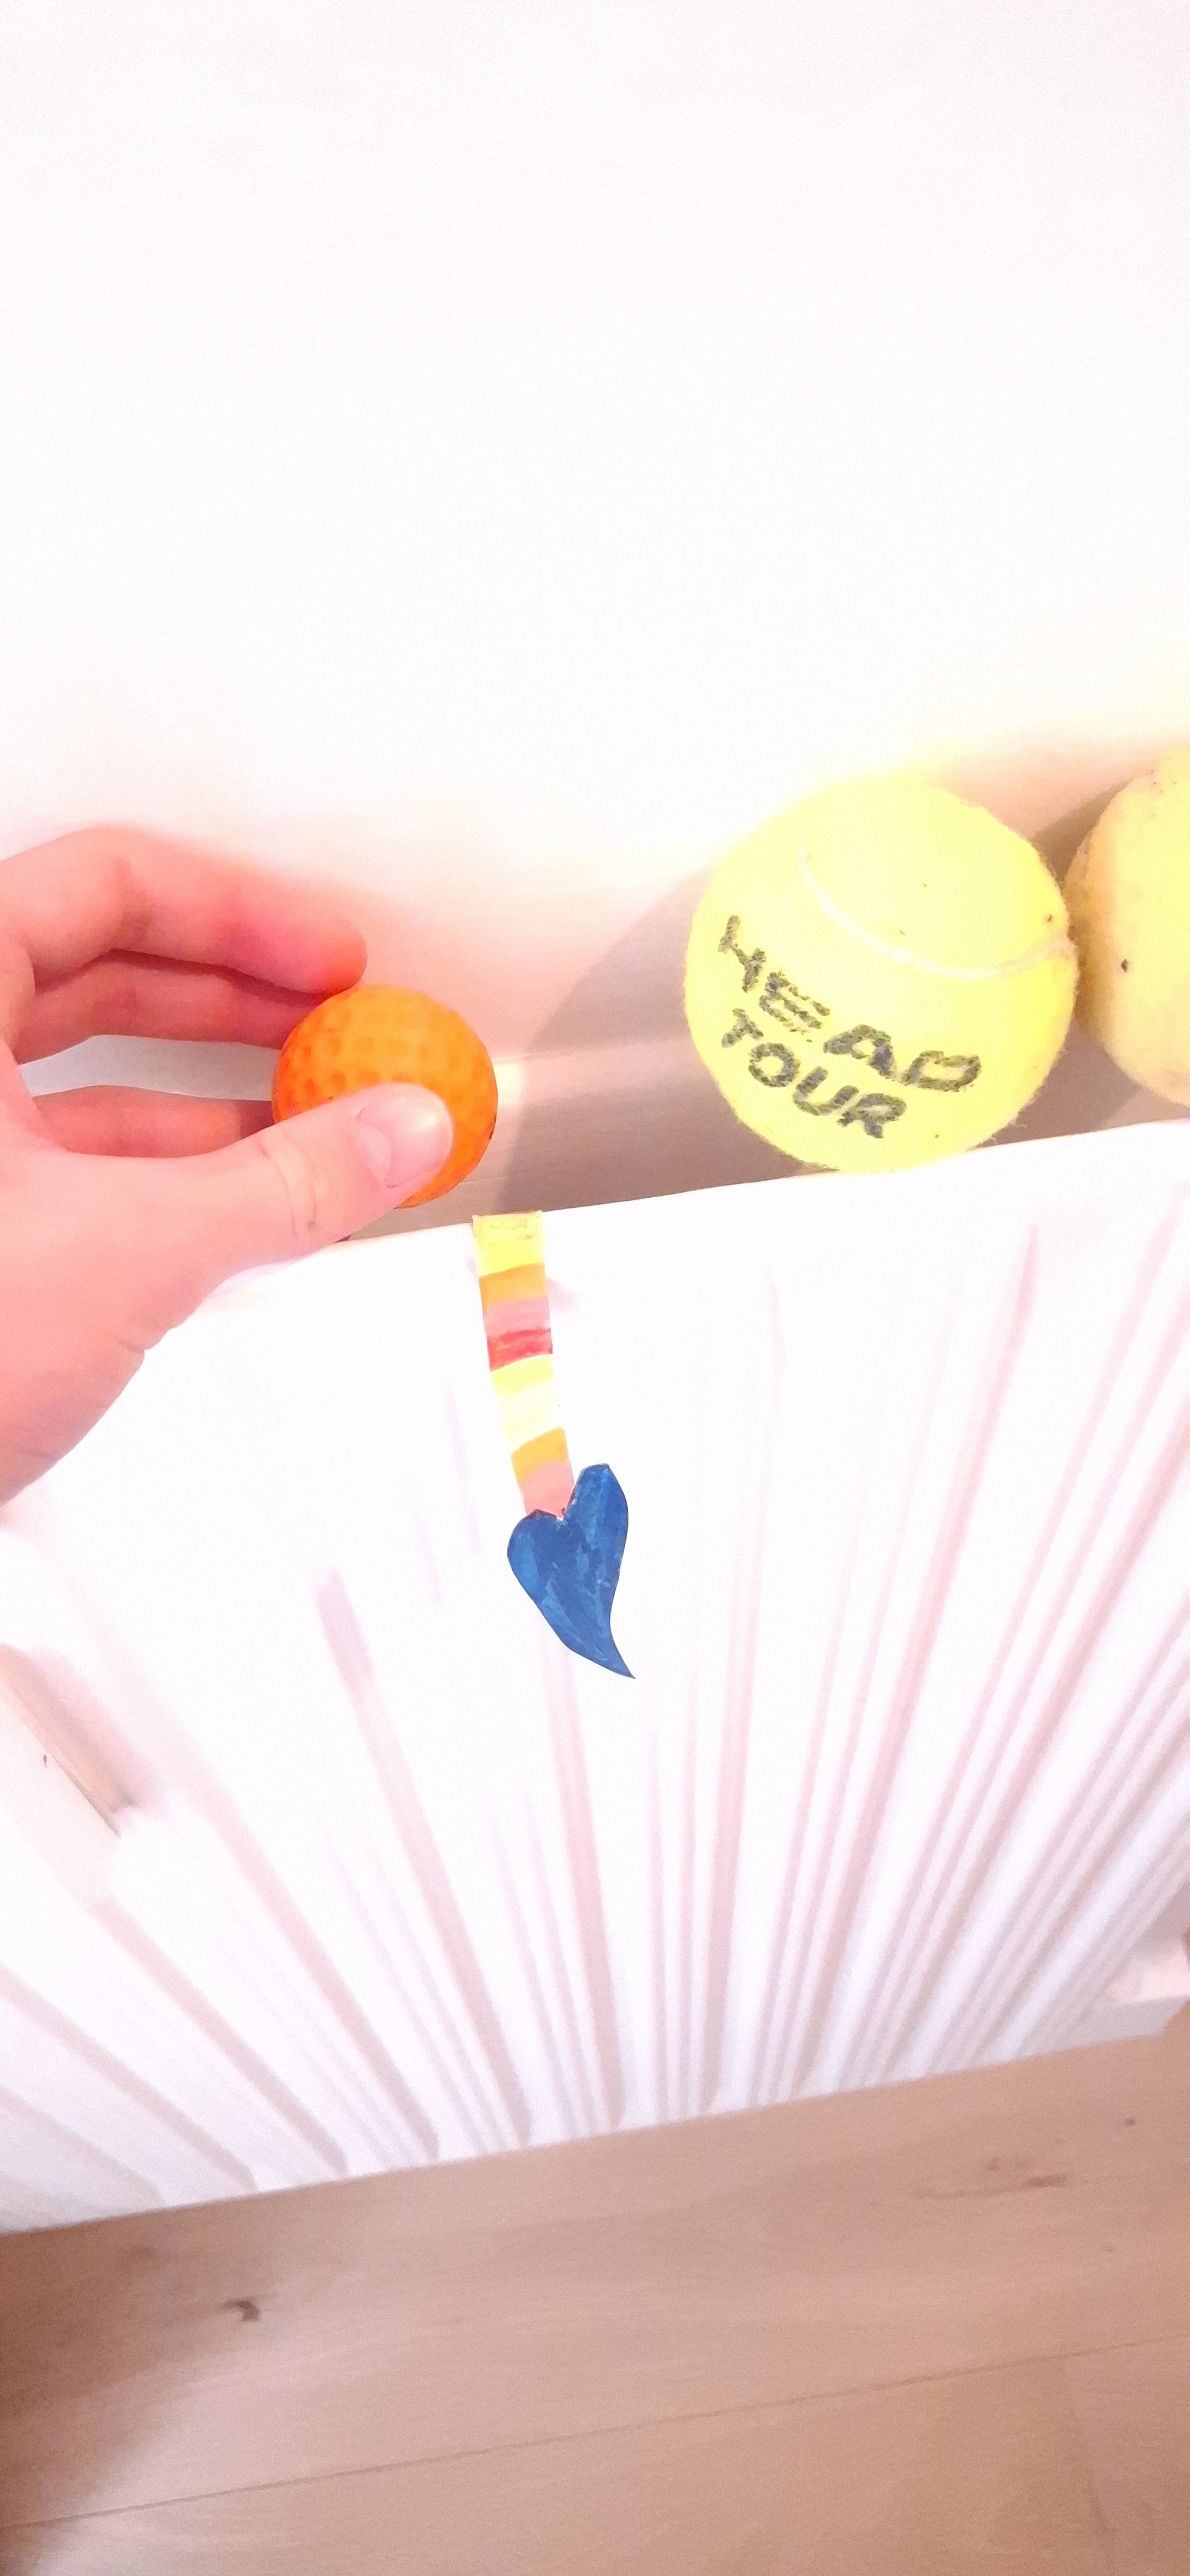ball: (457, 1497, 560, 1994)
